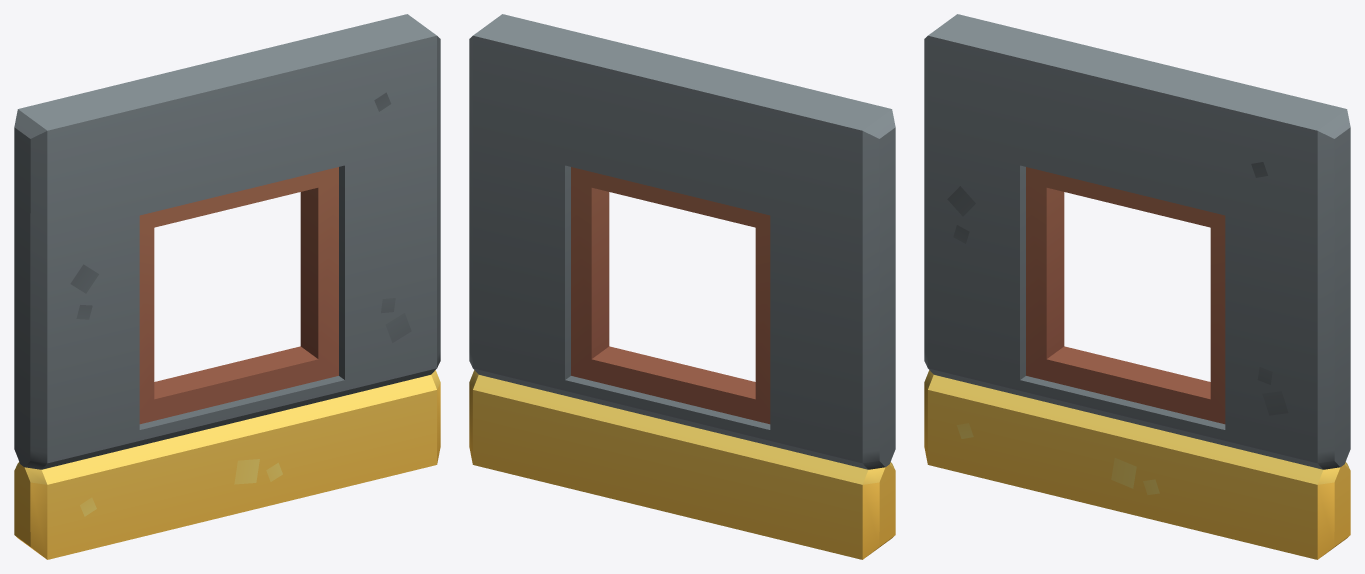
The model's file is warehouse_wall_window_open.glb.
The picture shows the model from 3 angles, left to right: view 1: azimuth 30°, elevation 25°; view 2: azimuth 150°, elevation 25°; view 3: azimuth 330°, elevation 25°; orthographic projection.
Visible parts, largest first — view 1: Wall_Window_Open; view 2: Wall_Window_Open; view 3: Wall_Window_Open.
Part boxes in pixels (x1,y1,x2,y2): Wall_Window_Open: (14, 14, 440, 559); Wall_Window_Open: (469, 14, 895, 559); Wall_Window_Open: (924, 14, 1350, 559).
Size of the model in its own units: 4 by 4 by 0.53.
Materials: 1 (1 with a texture image).
